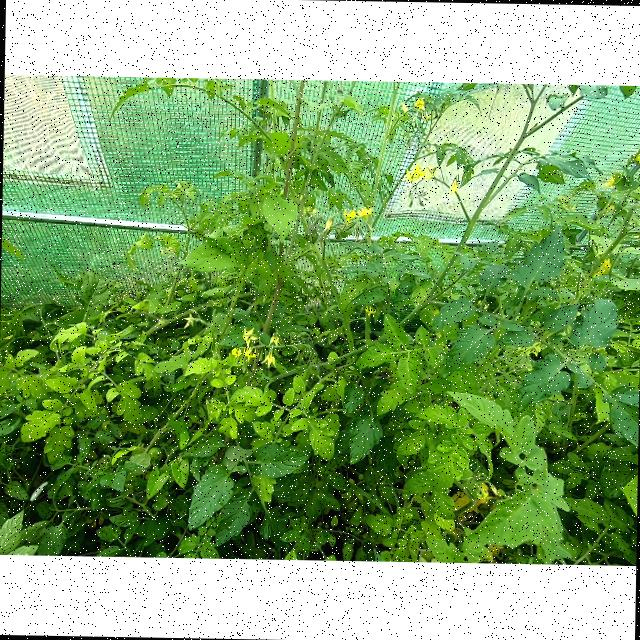Flowers: (402, 161, 437, 180), (594, 256, 614, 278), (183, 310, 205, 328), (475, 482, 497, 500), (556, 194, 578, 211), (262, 348, 280, 368), (241, 327, 258, 347), (356, 206, 374, 224), (242, 346, 260, 362), (340, 208, 356, 225), (322, 214, 337, 232), (412, 95, 426, 114), (448, 176, 461, 195), (159, 244, 175, 258), (629, 148, 640, 167), (268, 330, 281, 346), (601, 175, 614, 189), (364, 306, 378, 318), (230, 346, 241, 358)
